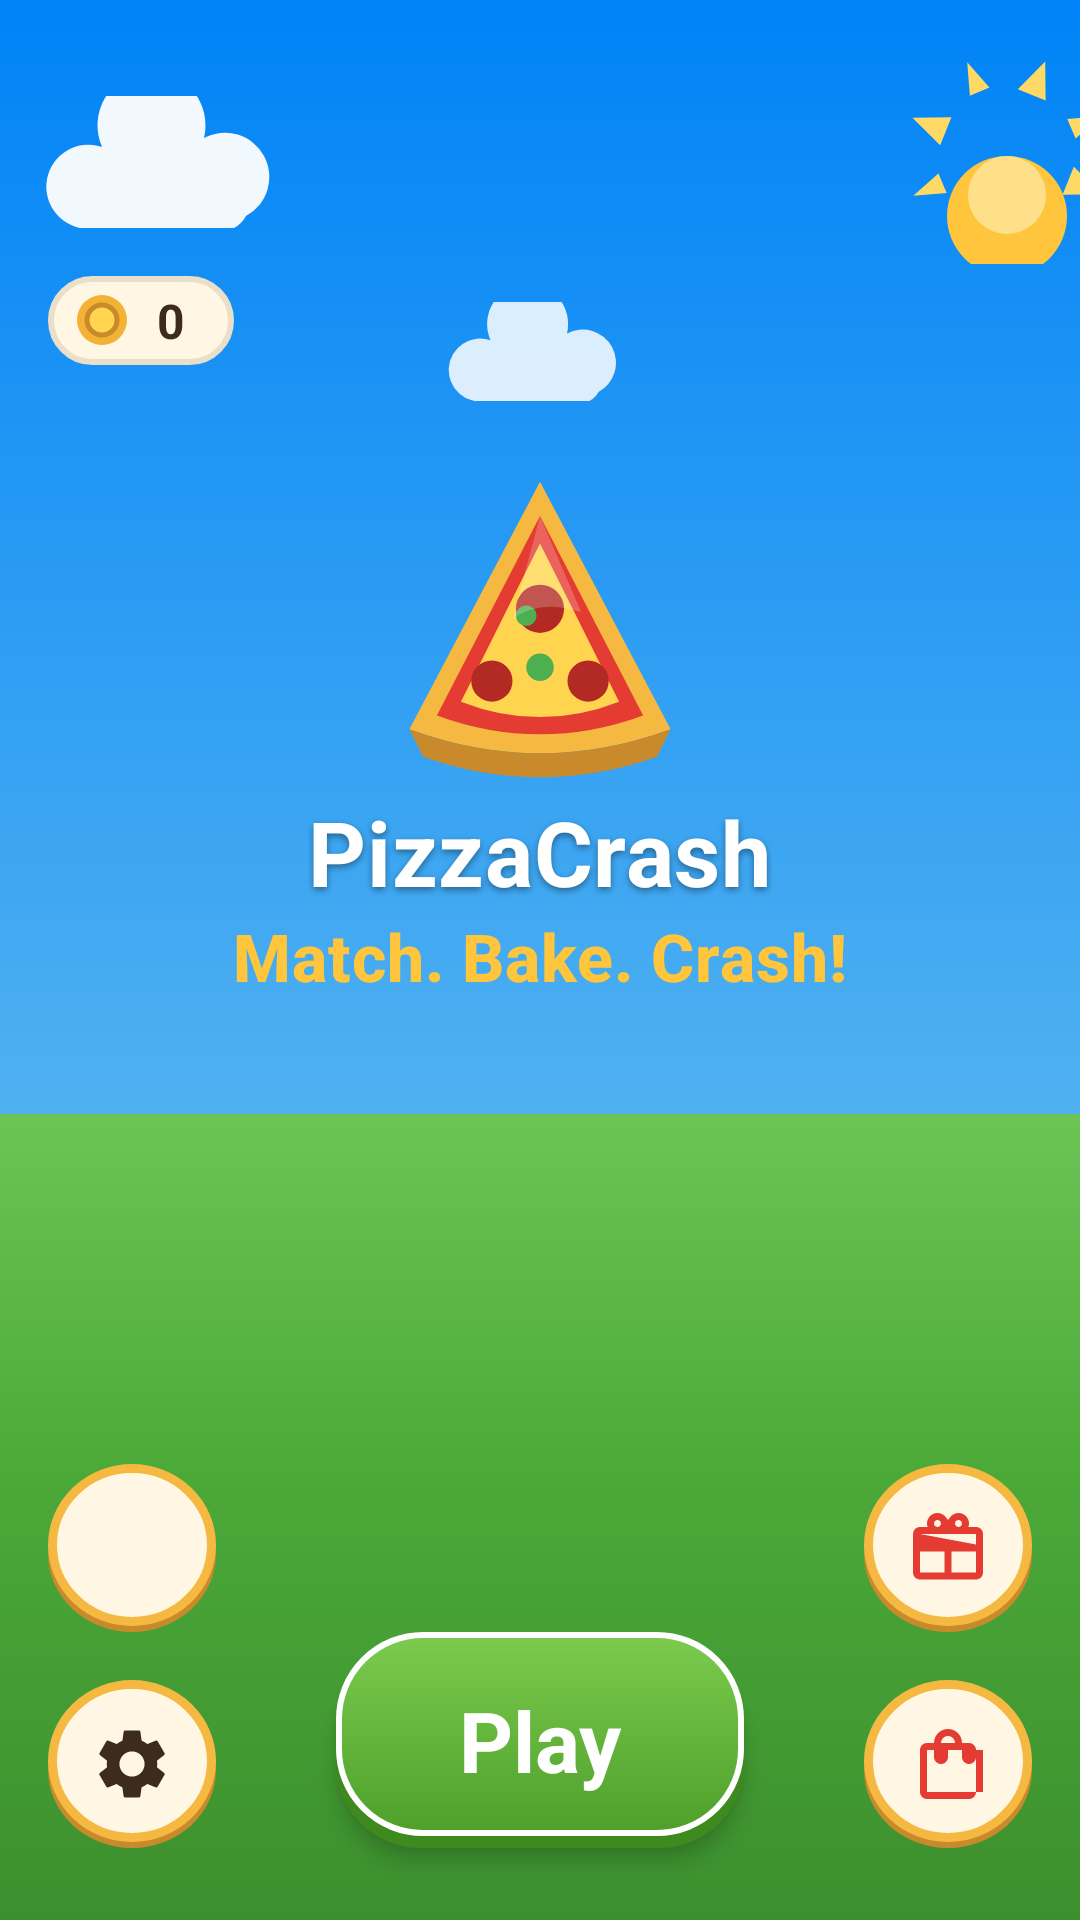

Point at icon controls on the screen. Image size 1080x1920, points as point (x, y).
bag: point (951, 1764)
cloud: point (158, 162), point (532, 351)
gear: point (132, 1764)
gift: point (948, 1546)
